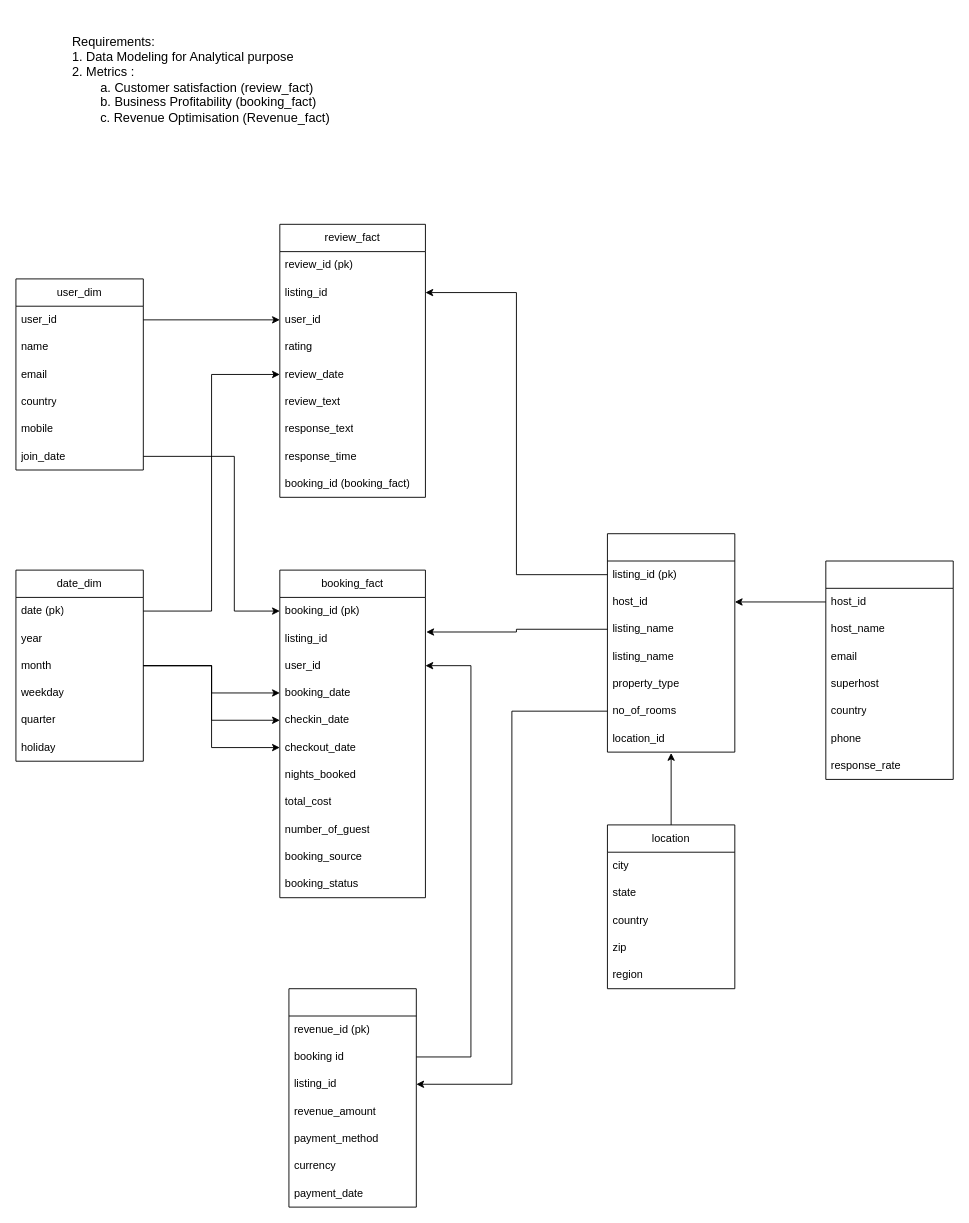
Image size: 969x1223. Some labels were removed from this diagram. Here are the shapes that lost their labels. From the top down, the box of each, then its label:
(607, 533, 735, 752): listing_dim
(825, 560, 953, 779): host_dim
(288, 988, 416, 1207): revenue_fact
